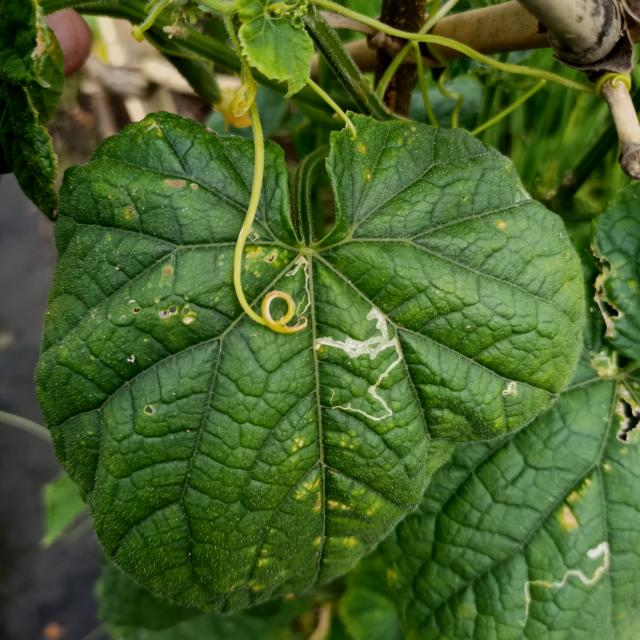disease_cucumber: (292, 434, 350, 522), (244, 242, 291, 277)
